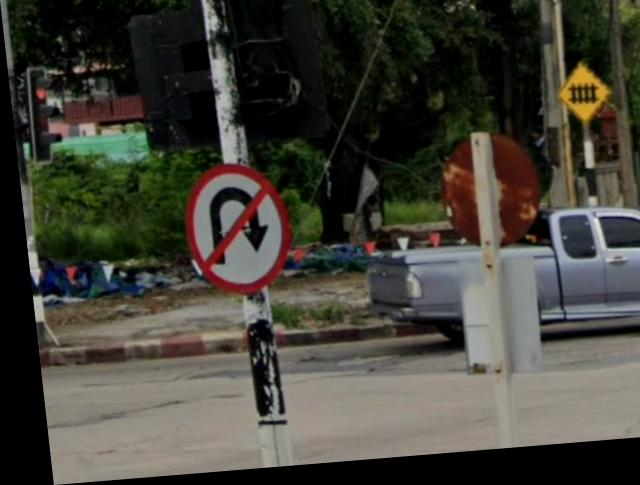not_u_turn_right: (162, 156, 303, 307)
